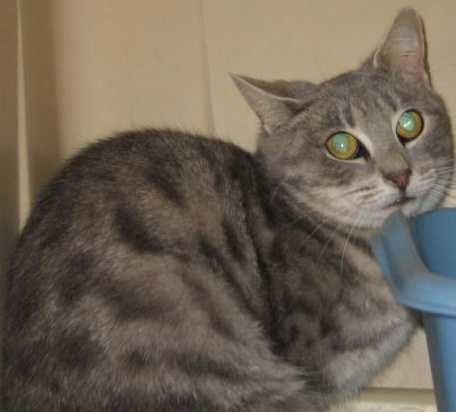Cat: (1, 20, 453, 411), (232, 9, 454, 396)
